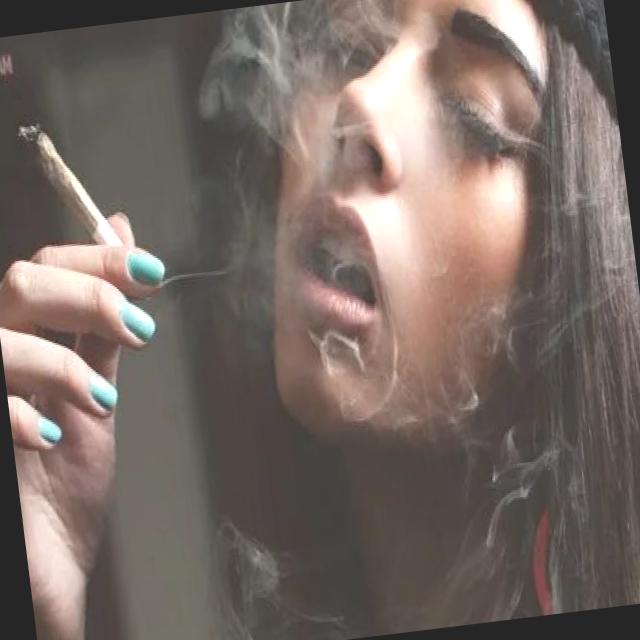cigarette: (11, 114, 129, 273)
